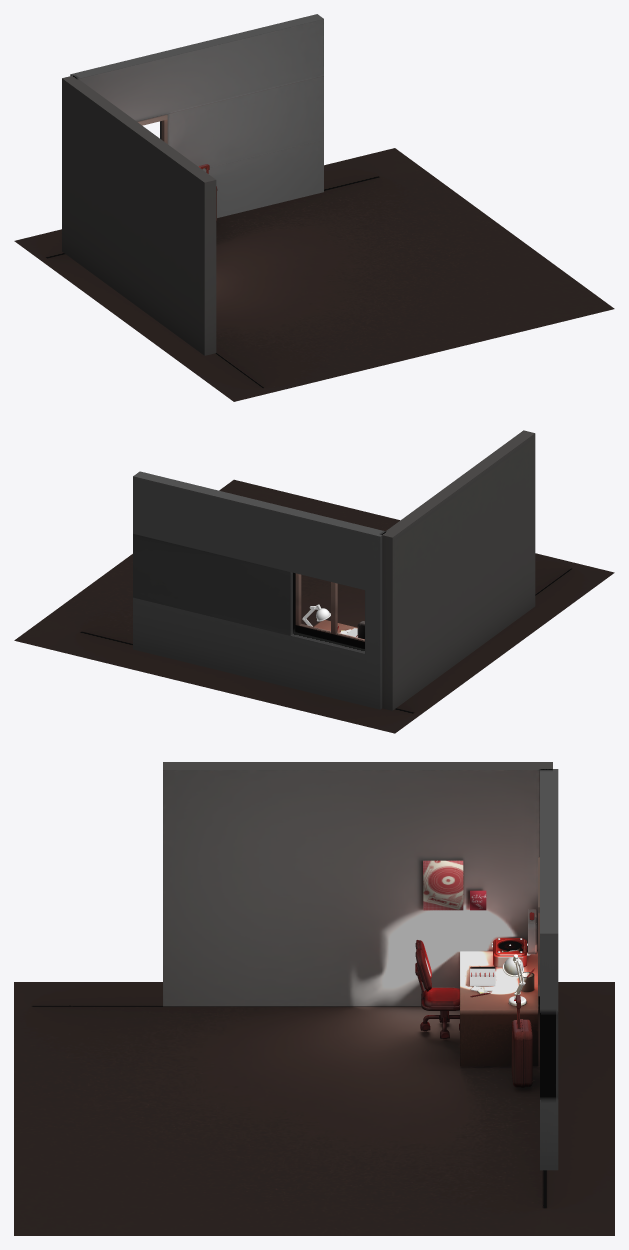
File: testtt.glb
The picture shows the model from 3 angles, top to bottom: view 1: azimuth 30°, elevation 25°; view 2: azimuth 150°, elevation 25°; view 3: azimuth 270°, elevation 25°; orthographic projection. The views are drawn at different scales.
Visible parts, largest first — view 1: 평면.003, 큐브.005, 큐브.004; view 2: 큐브.005, 큐브.004, 평면.003, 큐브.001; view 3: 평면.003, 큐브.004, 큐브.005, Body57, Body136, Body128, Body142, body (1).
Boxes of the visible parts, bbox=[...] form: 평면.003: bbox=[14, 148, 614, 401]; 큐브.005: bbox=[70, 14, 323, 217]; 큐브.004: bbox=[62, 75, 216, 355]; 큐브.005: bbox=[133, 471, 384, 709]; 큐브.004: bbox=[381, 430, 535, 710]; 평면.003: bbox=[14, 479, 614, 733]; 큐브.001: bbox=[295, 573, 364, 648]; 평면.003: bbox=[14, 982, 614, 1235]; 큐브.004: bbox=[163, 762, 552, 1006]; 큐브.005: bbox=[540, 769, 558, 1170]; Body57: bbox=[460, 951, 538, 1066]; Body136: bbox=[423, 860, 463, 910]; Body128: bbox=[415, 940, 459, 1039]; Body142: bbox=[511, 995, 532, 1087]; body (1): bbox=[493, 938, 526, 967].
Bounding box in the file's own units: 8.16 × 3.63 × 8.16.
Materials: 25 (17 with a texture image).
